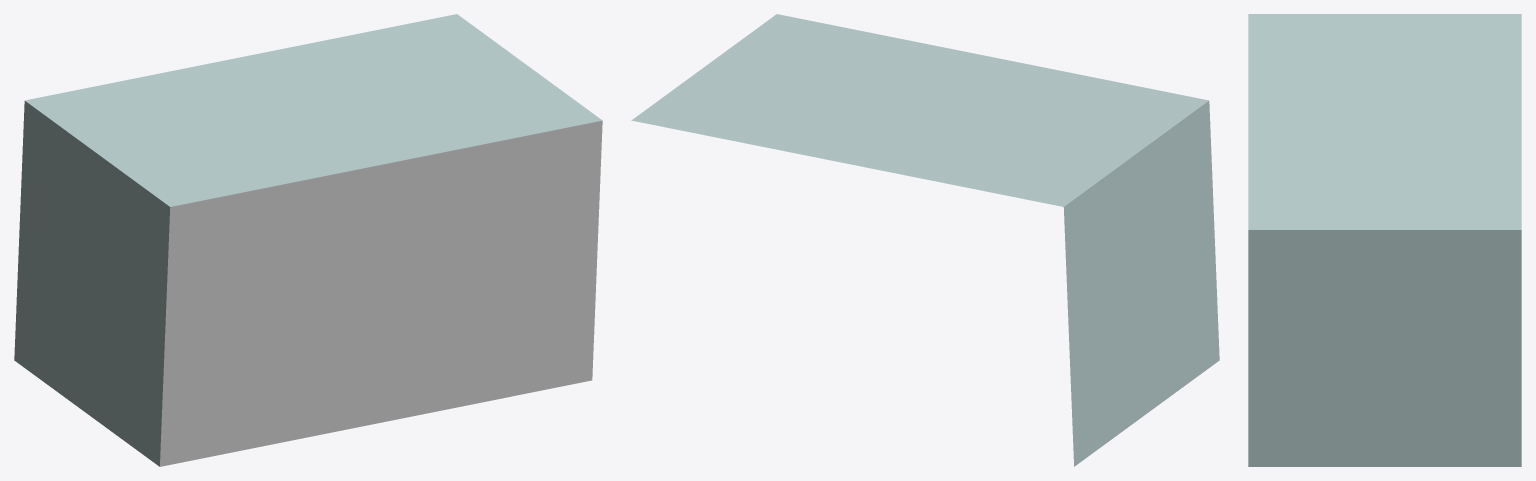
3 renders of one model, left to right at view 1: azimuth 30°, elevation 25°; view 2: azimuth 150°, elevation 25°; view 3: azimuth 270°, elevation 25°, orthographic. The views are drawn at different scales.
Parts seen in each view (by area): view 1: 0_3_2_1_1_3_0_0_3; view 2: 0_3_2_1_1_3_0_0_3; view 3: 0_3_2_1_1_3_0_0_3.
Boxes of the visible parts, <box> form: 0_3_2_1_1_3_0_0_3: <box>14,14,602,466</box>; 0_3_2_1_1_3_0_0_3: <box>631,14,1219,466</box>; 0_3_2_1_1_3_0_0_3: <box>1248,14,1521,466</box>.
Size of the model in its own units: 5.27 by 3.14 by 3.
